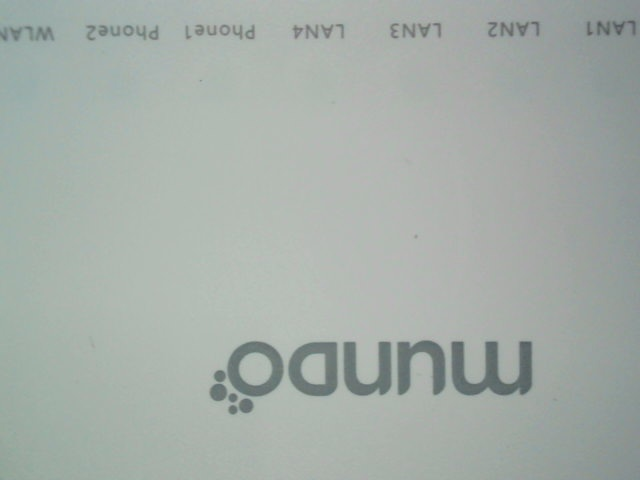BI_MUNDO: (201, 318, 541, 413)
